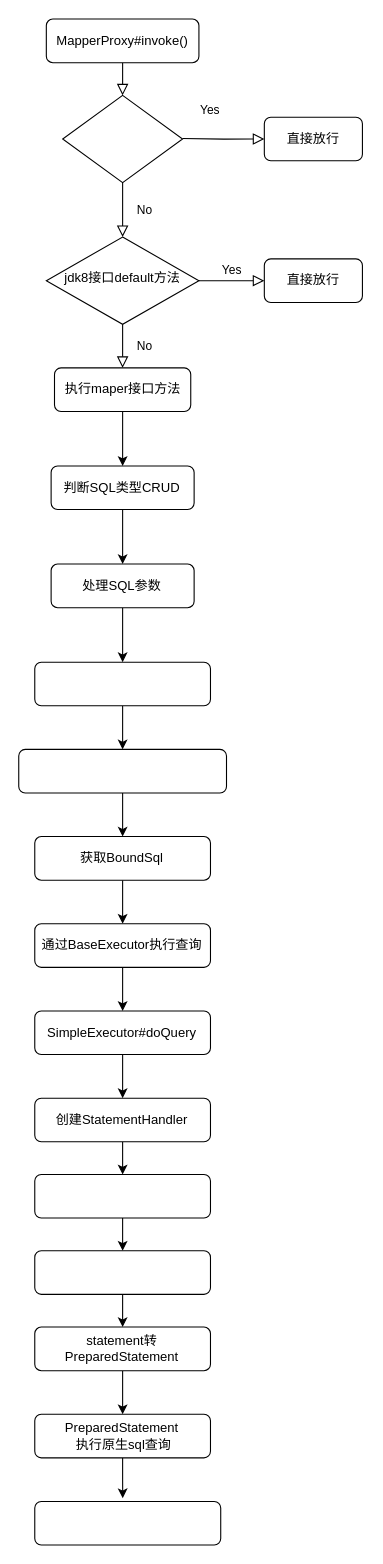
Image size: 383x1564. Some labels were removed from this diagram. The shapes that lost their labels are listed below. From the top down, each one's centre as x and y in pixels, then its label:
At [122,138]: "Object原生方法".
At [122,683]: "获取MappedStatement".
At [122,770]: "通过CachingExecutor执行查询".
At [122,1195]: "创建Statement".
At [122,1272]: "StatementHandler#query()".
At [127,1522]: "ResultSetHandler封装结果集".
